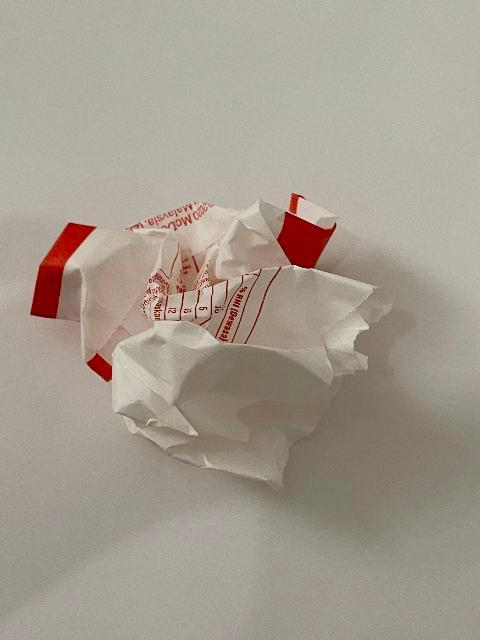paperbag: (27, 188, 394, 492)
